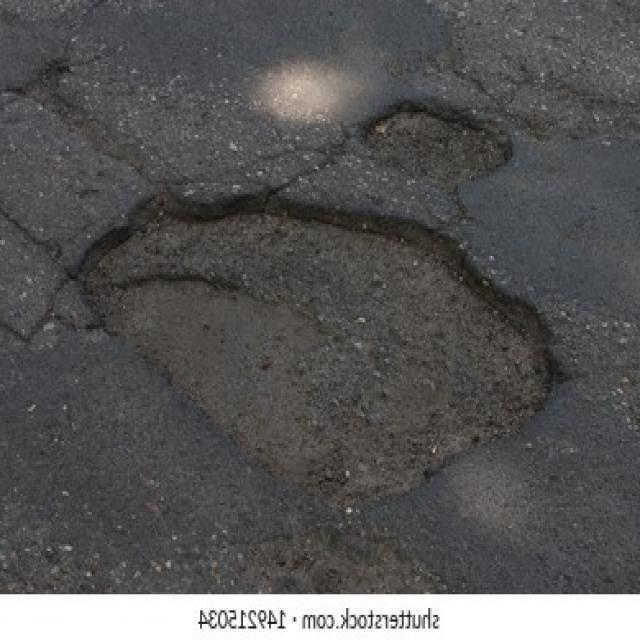pothole: (72, 183, 565, 515), (363, 96, 513, 190)
